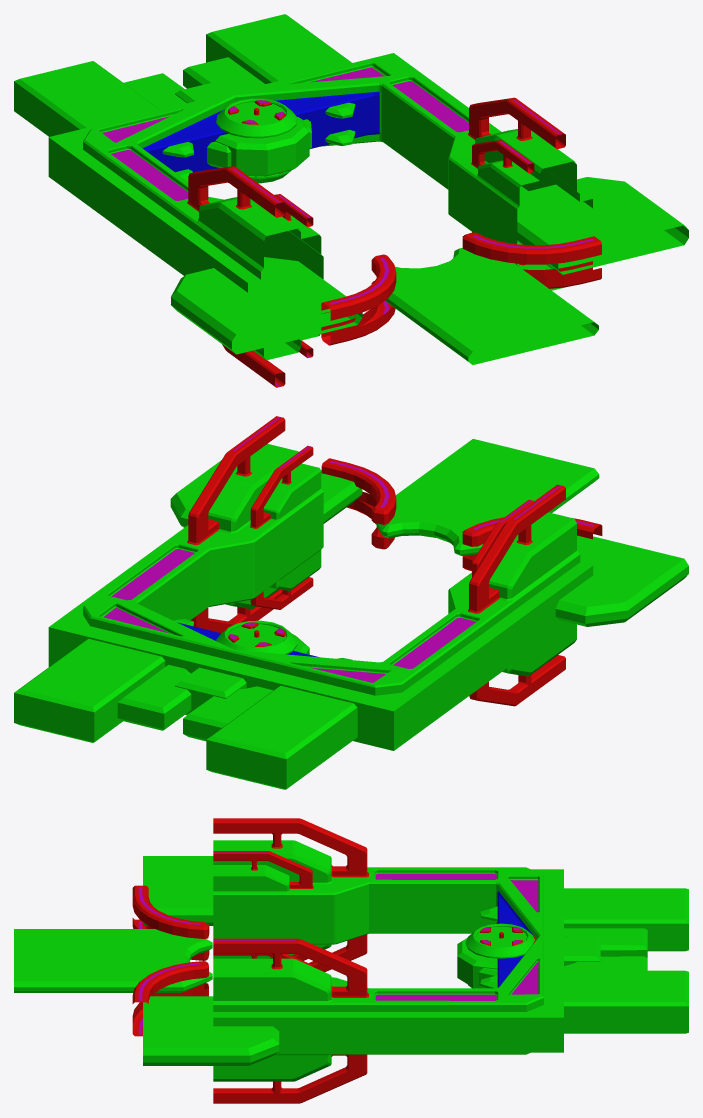
File: MePorteGrandOuvert_V1.FBX
3 views of the same model, one above another, from view 1: azimuth 30°, elevation 25°; view 2: azimuth 150°, elevation 25°; view 3: azimuth 270°, elevation 25° (orthographic). The views are drawn at different scales.
Visible parts, largest first — view 1: Grand porte TestFinal002; view 2: Grand porte TestFinal002; view 3: Grand porte TestFinal002.
Part boxes in pixels (left/top/right/bottom): Grand porte TestFinal002: left=14, top=14, right=688, bottom=387; Grand porte TestFinal002: left=14, top=416, right=688, bottom=789; Grand porte TestFinal002: left=14, top=818, right=688, bottom=1103.
Bounding box in the file's own units: 397 × 153 × 577.
